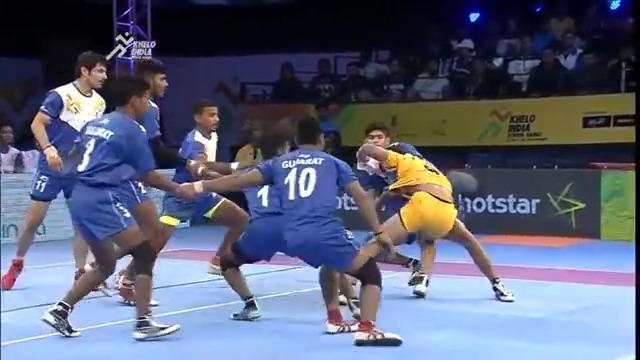Player: (176, 115, 403, 346), (41, 74, 195, 340), (116, 98, 250, 306), (1, 50, 114, 295), (355, 122, 424, 286)
Raider: (355, 139, 515, 303)
